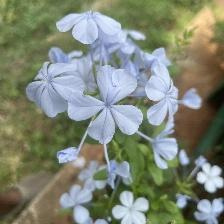chitrak: (69, 65, 143, 146), (26, 60, 84, 118), (56, 10, 127, 45), (146, 62, 183, 126), (113, 188, 151, 224), (195, 196, 224, 224), (198, 163, 224, 193)
